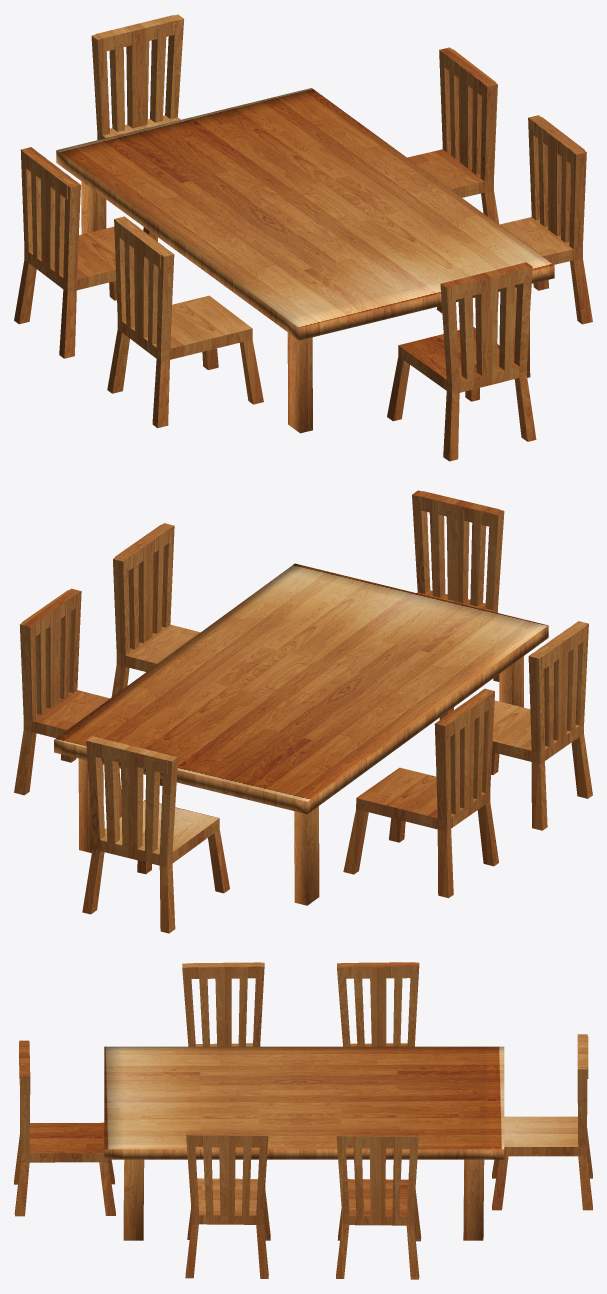
The model's file is dine table.obj.
3 renders of one model, top to bottom at view 1: azimuth 30°, elevation 25°; view 2: azimuth 150°, elevation 25°; view 3: azimuth 270°, elevation 25°, orthographic. The views are drawn at different scales.
Visible parts, largest first — view 1: box1, box25, box22, box21, box23, box2, box24, box35, box31, box32, box3, box33 (+1 smaller); view 2: box1, box2, box21, box22, box24, box25, box23, box3, box31, box32, box35, box33 (+1 smaller); view 3: box1, box23, box24, box25, box2, box21, box22, box33, box34, box32, box31.
Part boxes in pixels (box(x1,y1,x2,y2)): box1: box(56, 88, 554, 433); box25: box(387, 262, 536, 461); box22: box(107, 216, 263, 428); box21: box(14, 147, 116, 358); box23: box(436, 115, 592, 324); box2: box(91, 14, 184, 241); box24: box(407, 47, 499, 224); box35: box(445, 263, 528, 300); box31: box(22, 149, 77, 199); box32: box(115, 218, 170, 268); box3: box(95, 15, 179, 51); box33: box(531, 117, 584, 163); box1: box(54, 563, 548, 905); box2: box(82, 736, 229, 933); box21: box(343, 688, 498, 898); box22: box(491, 621, 592, 830); box24: box(14, 588, 162, 817); box25: box(412, 490, 504, 719); box23: box(111, 523, 200, 697); box3: box(90, 737, 172, 774); box31: box(438, 690, 492, 738); box32: box(531, 623, 586, 670); box35: box(417, 491, 500, 526); box33: box(115, 524, 171, 570); box1: box(104, 1046, 504, 1240); box23: box(185, 1131, 270, 1278); box24: box(336, 1131, 421, 1279); box25: box(14, 1040, 115, 1216); box2: box(492, 1034, 592, 1210); box21: box(337, 962, 419, 1046); box22: box(182, 962, 264, 1046); box33: box(190, 1131, 264, 1147); box34: box(340, 1132, 414, 1148); box32: box(186, 962, 260, 978); box31: box(341, 962, 415, 978).
Size of the model in its own units: 8.51 by 3.27 by 11.77.
1 material, 1 textured.
